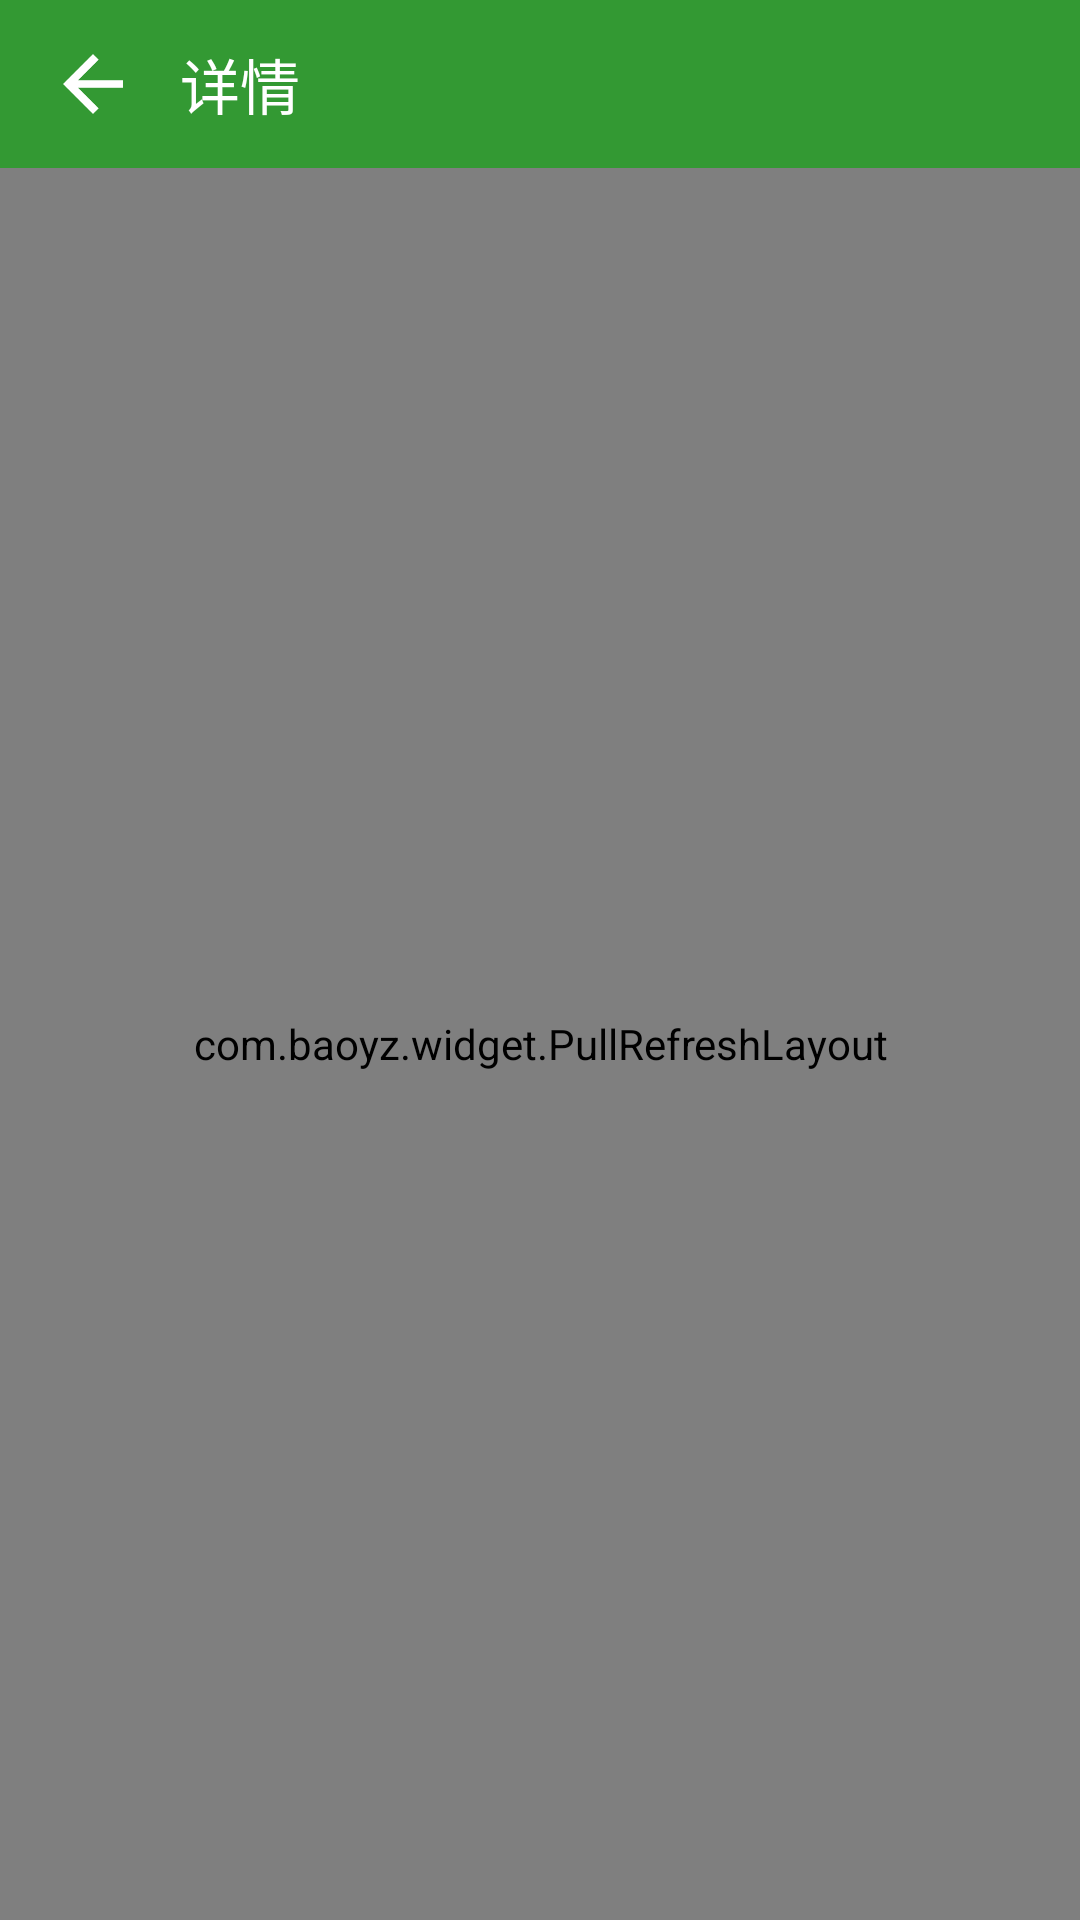

Icon click points for this 1080w x 1920h phone screenshot, format (x=x, y=y):
back: (x=93, y=84)
